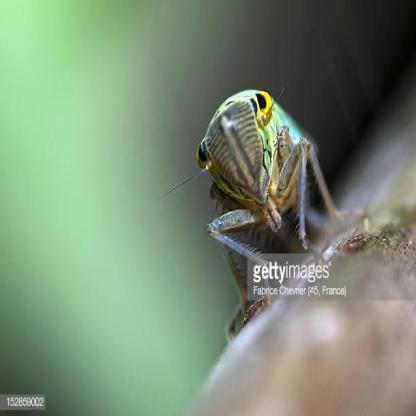Green-Leafhopper: (193, 81, 358, 344)
